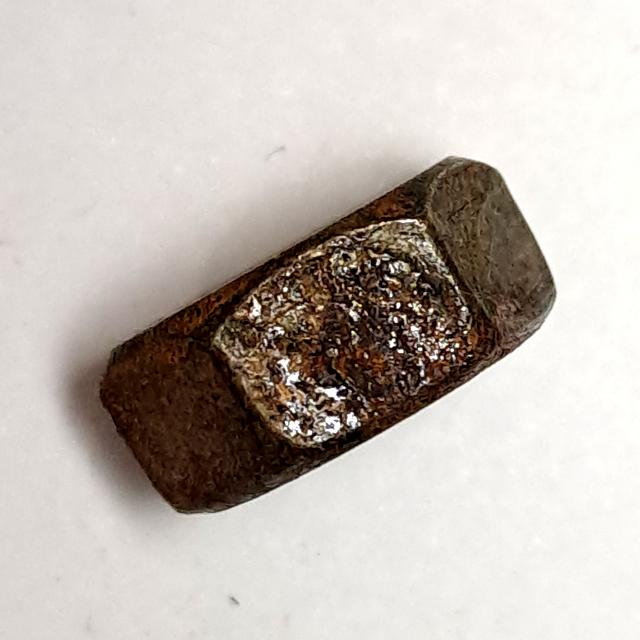Side_Rust: (87, 145, 572, 531)
